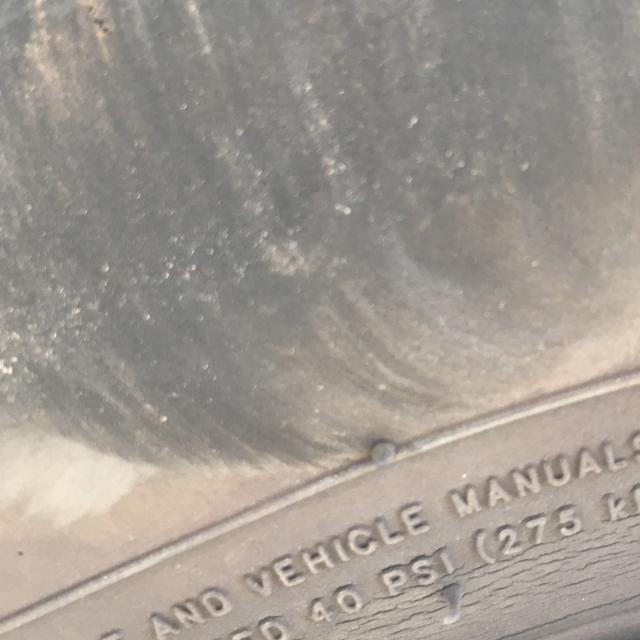Cracks: (308, 458, 640, 640)
